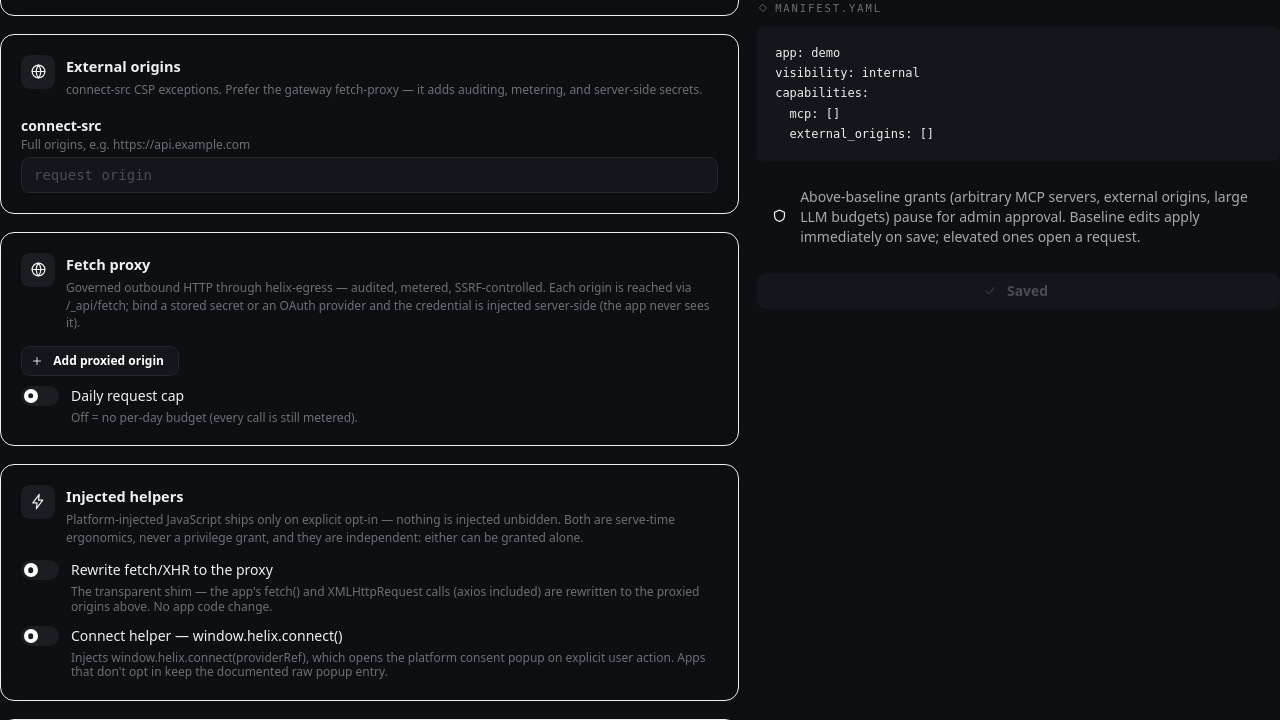
Test case: CapabilitiesTab — keyboard/screen-reader operation › drives the credential select, the provider picker, and the Required switch without a pointer
(page scrolled)
Click the button "Add proxied origin": (100, 361) [21,346,179,376]
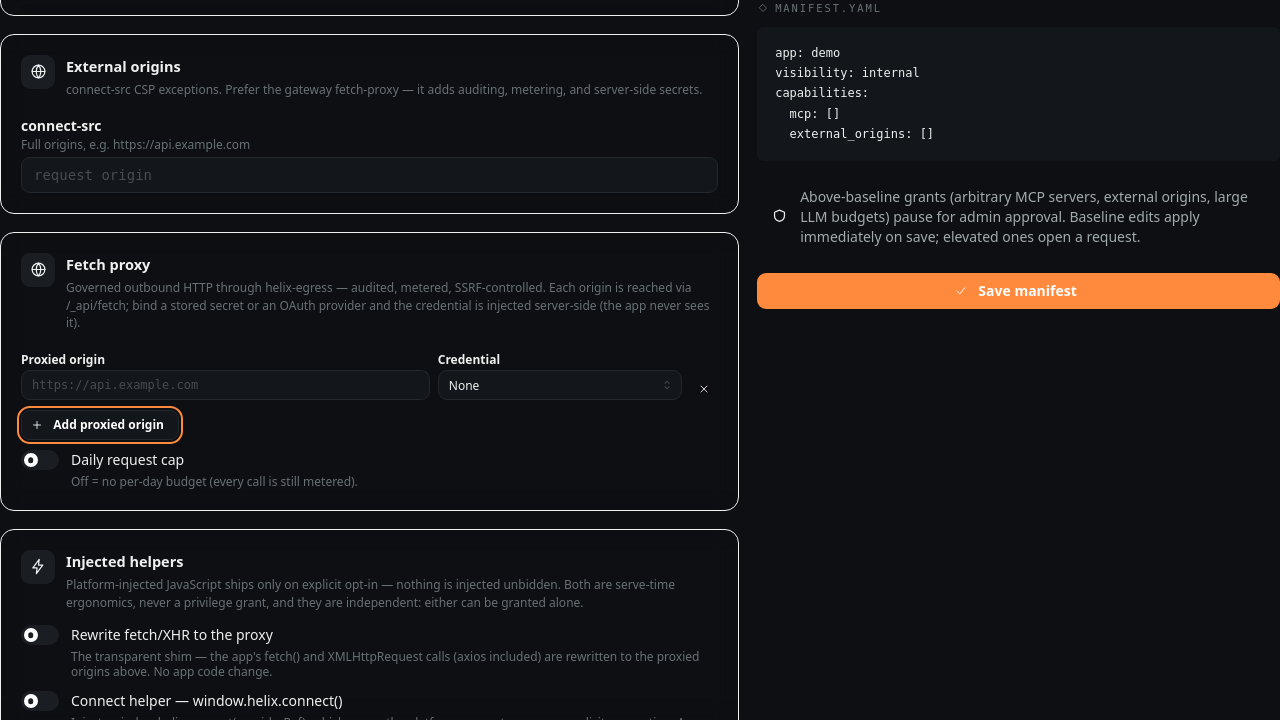
In the field with placeholder "https://api.example.com": (225, 385) [21,370,430,400], type "https://app.asana.com"
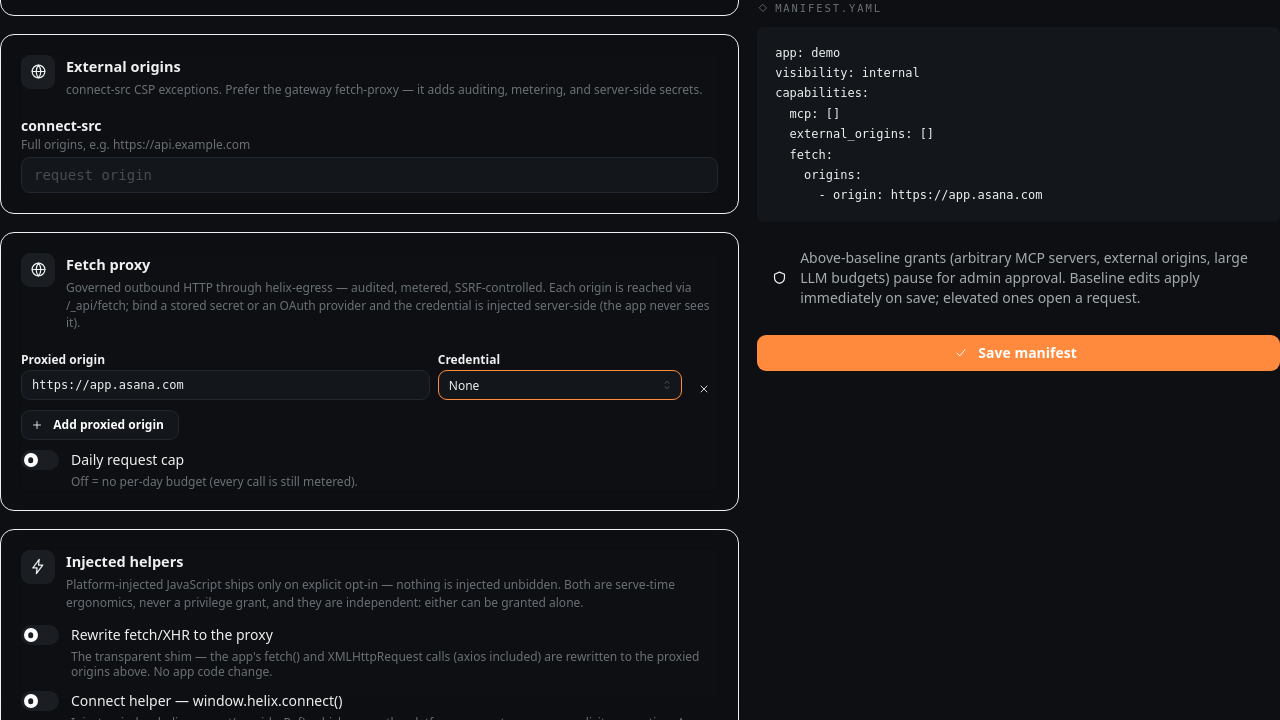
Press Arrowdown Arrowdown Arrowdown Enter
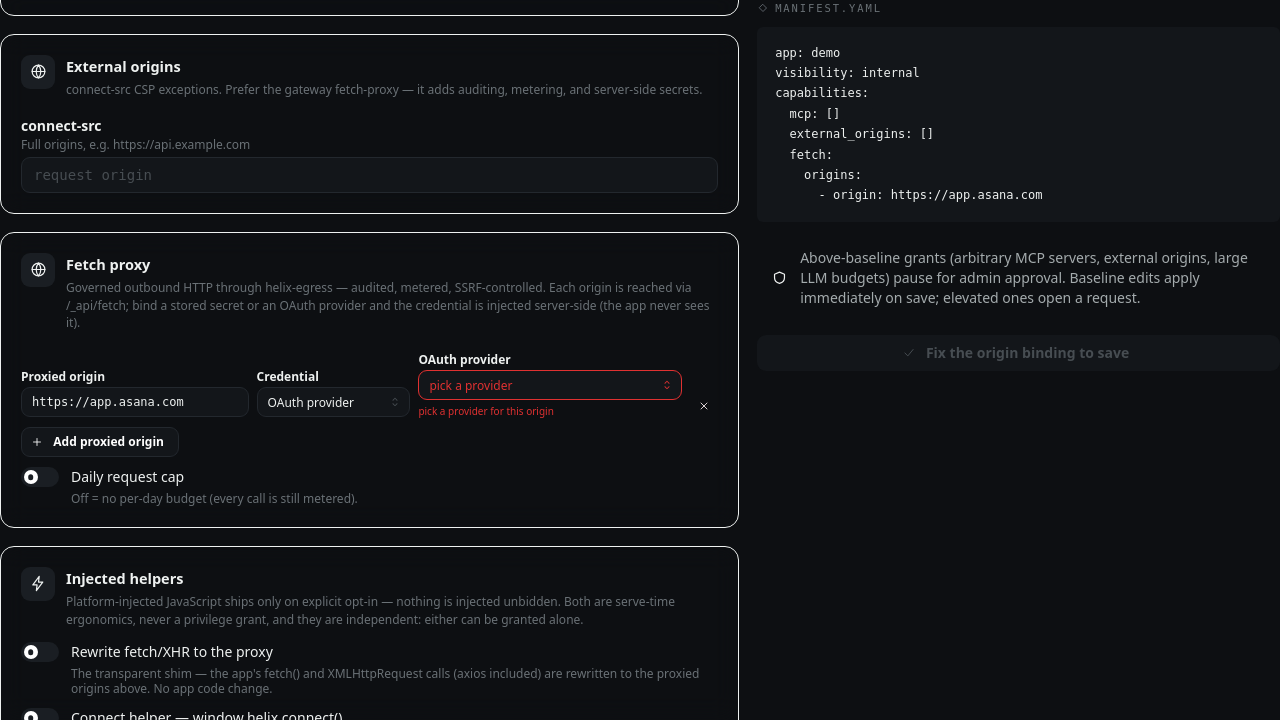
Check: the dropdown labelled "Credential" holds "OAuth provider", box [257,387,410,417]
Press Arrowdown Enter
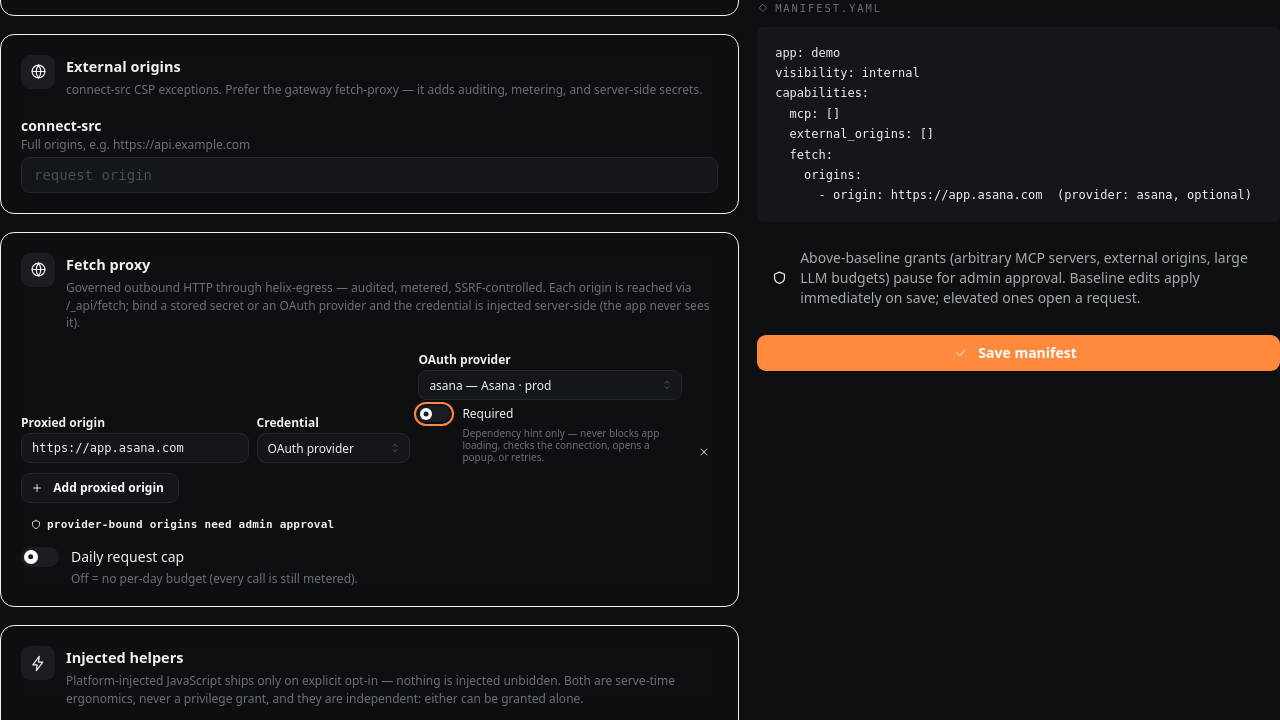
Check: the dropdown labelled "OAuth provider" holds "asana — Asana · prod", box [418,370,682,400]
Type keys " "
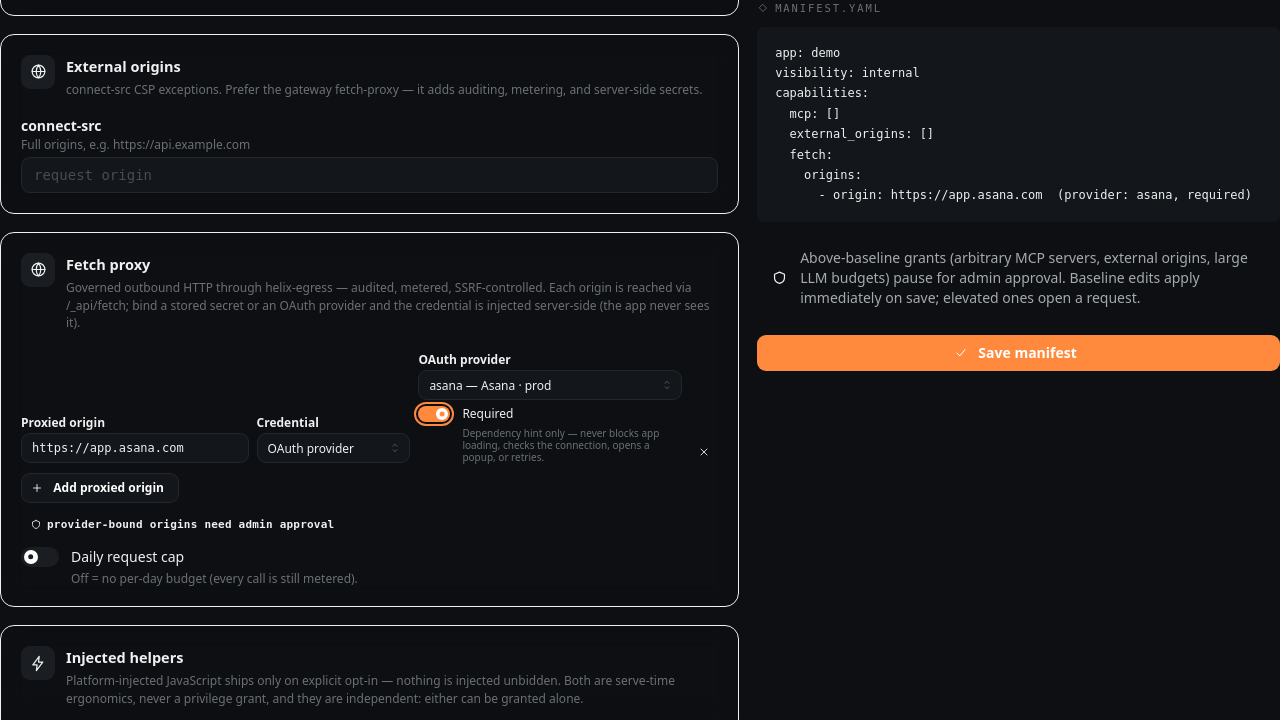
Check: the text "app: demo" shows "- origin: https://app.asana.com (provider: asana, required)", box [775,45,1252,202]
